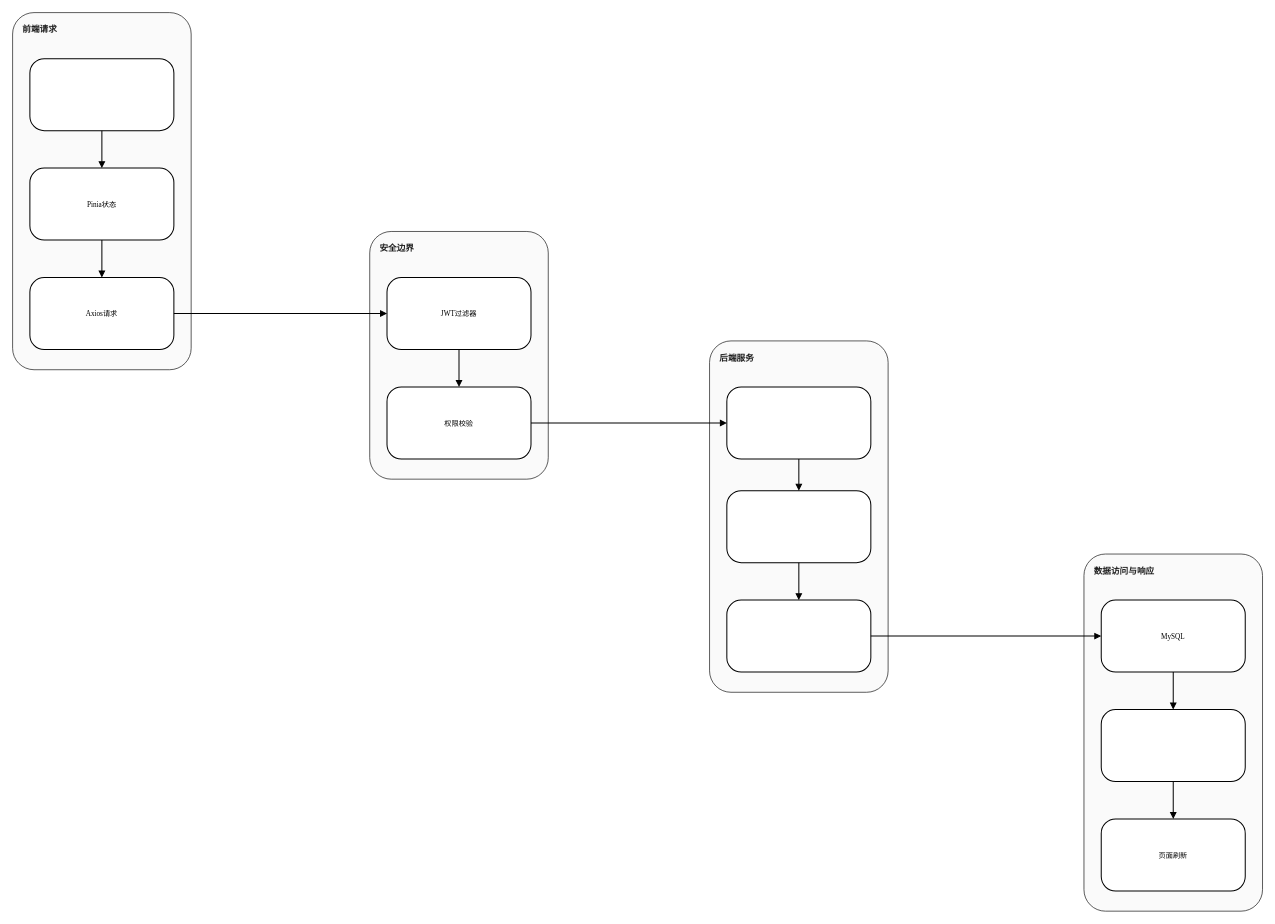
Image size: 1275x924. Some labels were removed from this diagram. The box of each missing label's shape, as (x1, y1, x2, y2) in pixels:
Controller: (726, 386, 871, 459)
Mapper: (726, 599, 871, 672)
Service: (726, 490, 871, 563)
Vue页面: (29, 58, 174, 131)
统一响应: (1100, 709, 1245, 782)
